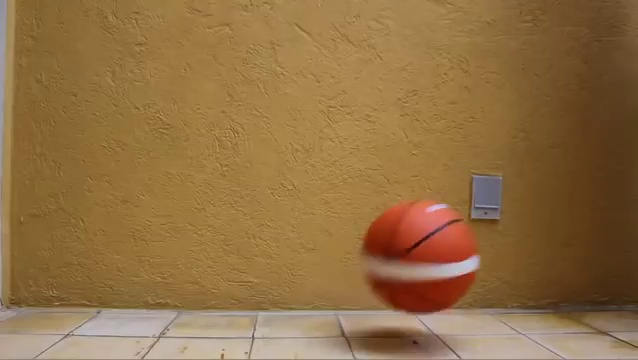ball: (360, 198, 483, 315)
